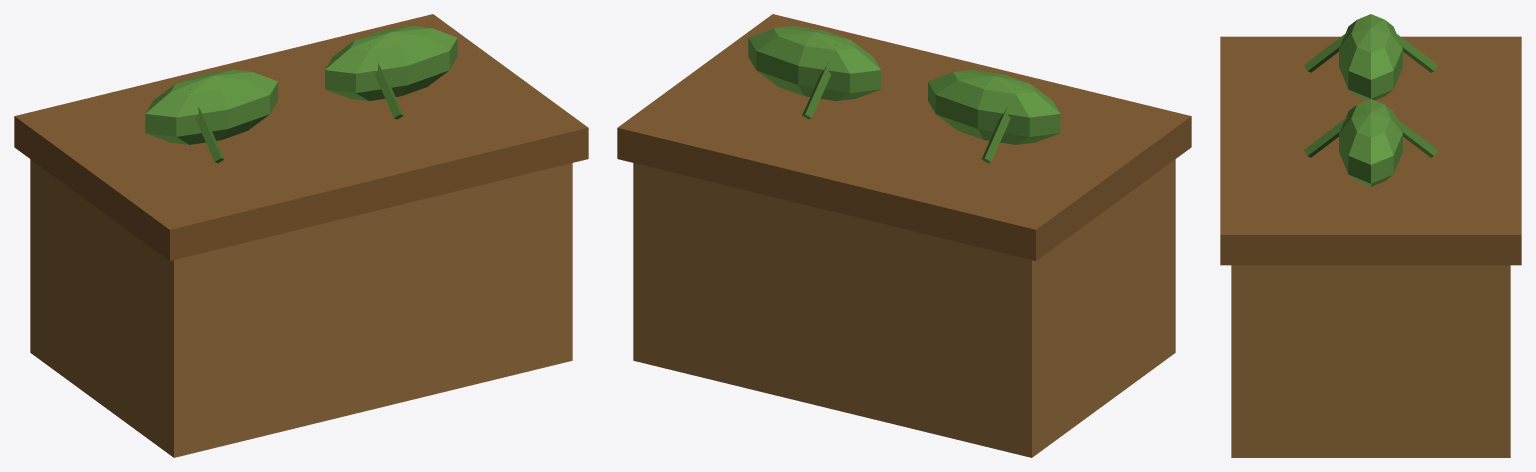
Rendered from bait-cricket.glb.
3 renders of one model, left to right at view 1: azimuth 30°, elevation 25°; view 2: azimuth 150°, elevation 25°; view 3: azimuth 270°, elevation 25°, orthographic. The views are drawn at different scales.
Visible parts, largest first — view 1: bait-cricket; view 2: bait-cricket; view 3: bait-cricket.
Part boxes in pixels (box(x1,y1,x2,y2)): bait-cricket: box(14, 14, 588, 457); bait-cricket: box(617, 14, 1191, 457); bait-cricket: box(1220, 14, 1521, 457).
Size of the model in its own units: 0.84 by 0.58 by 0.54.
